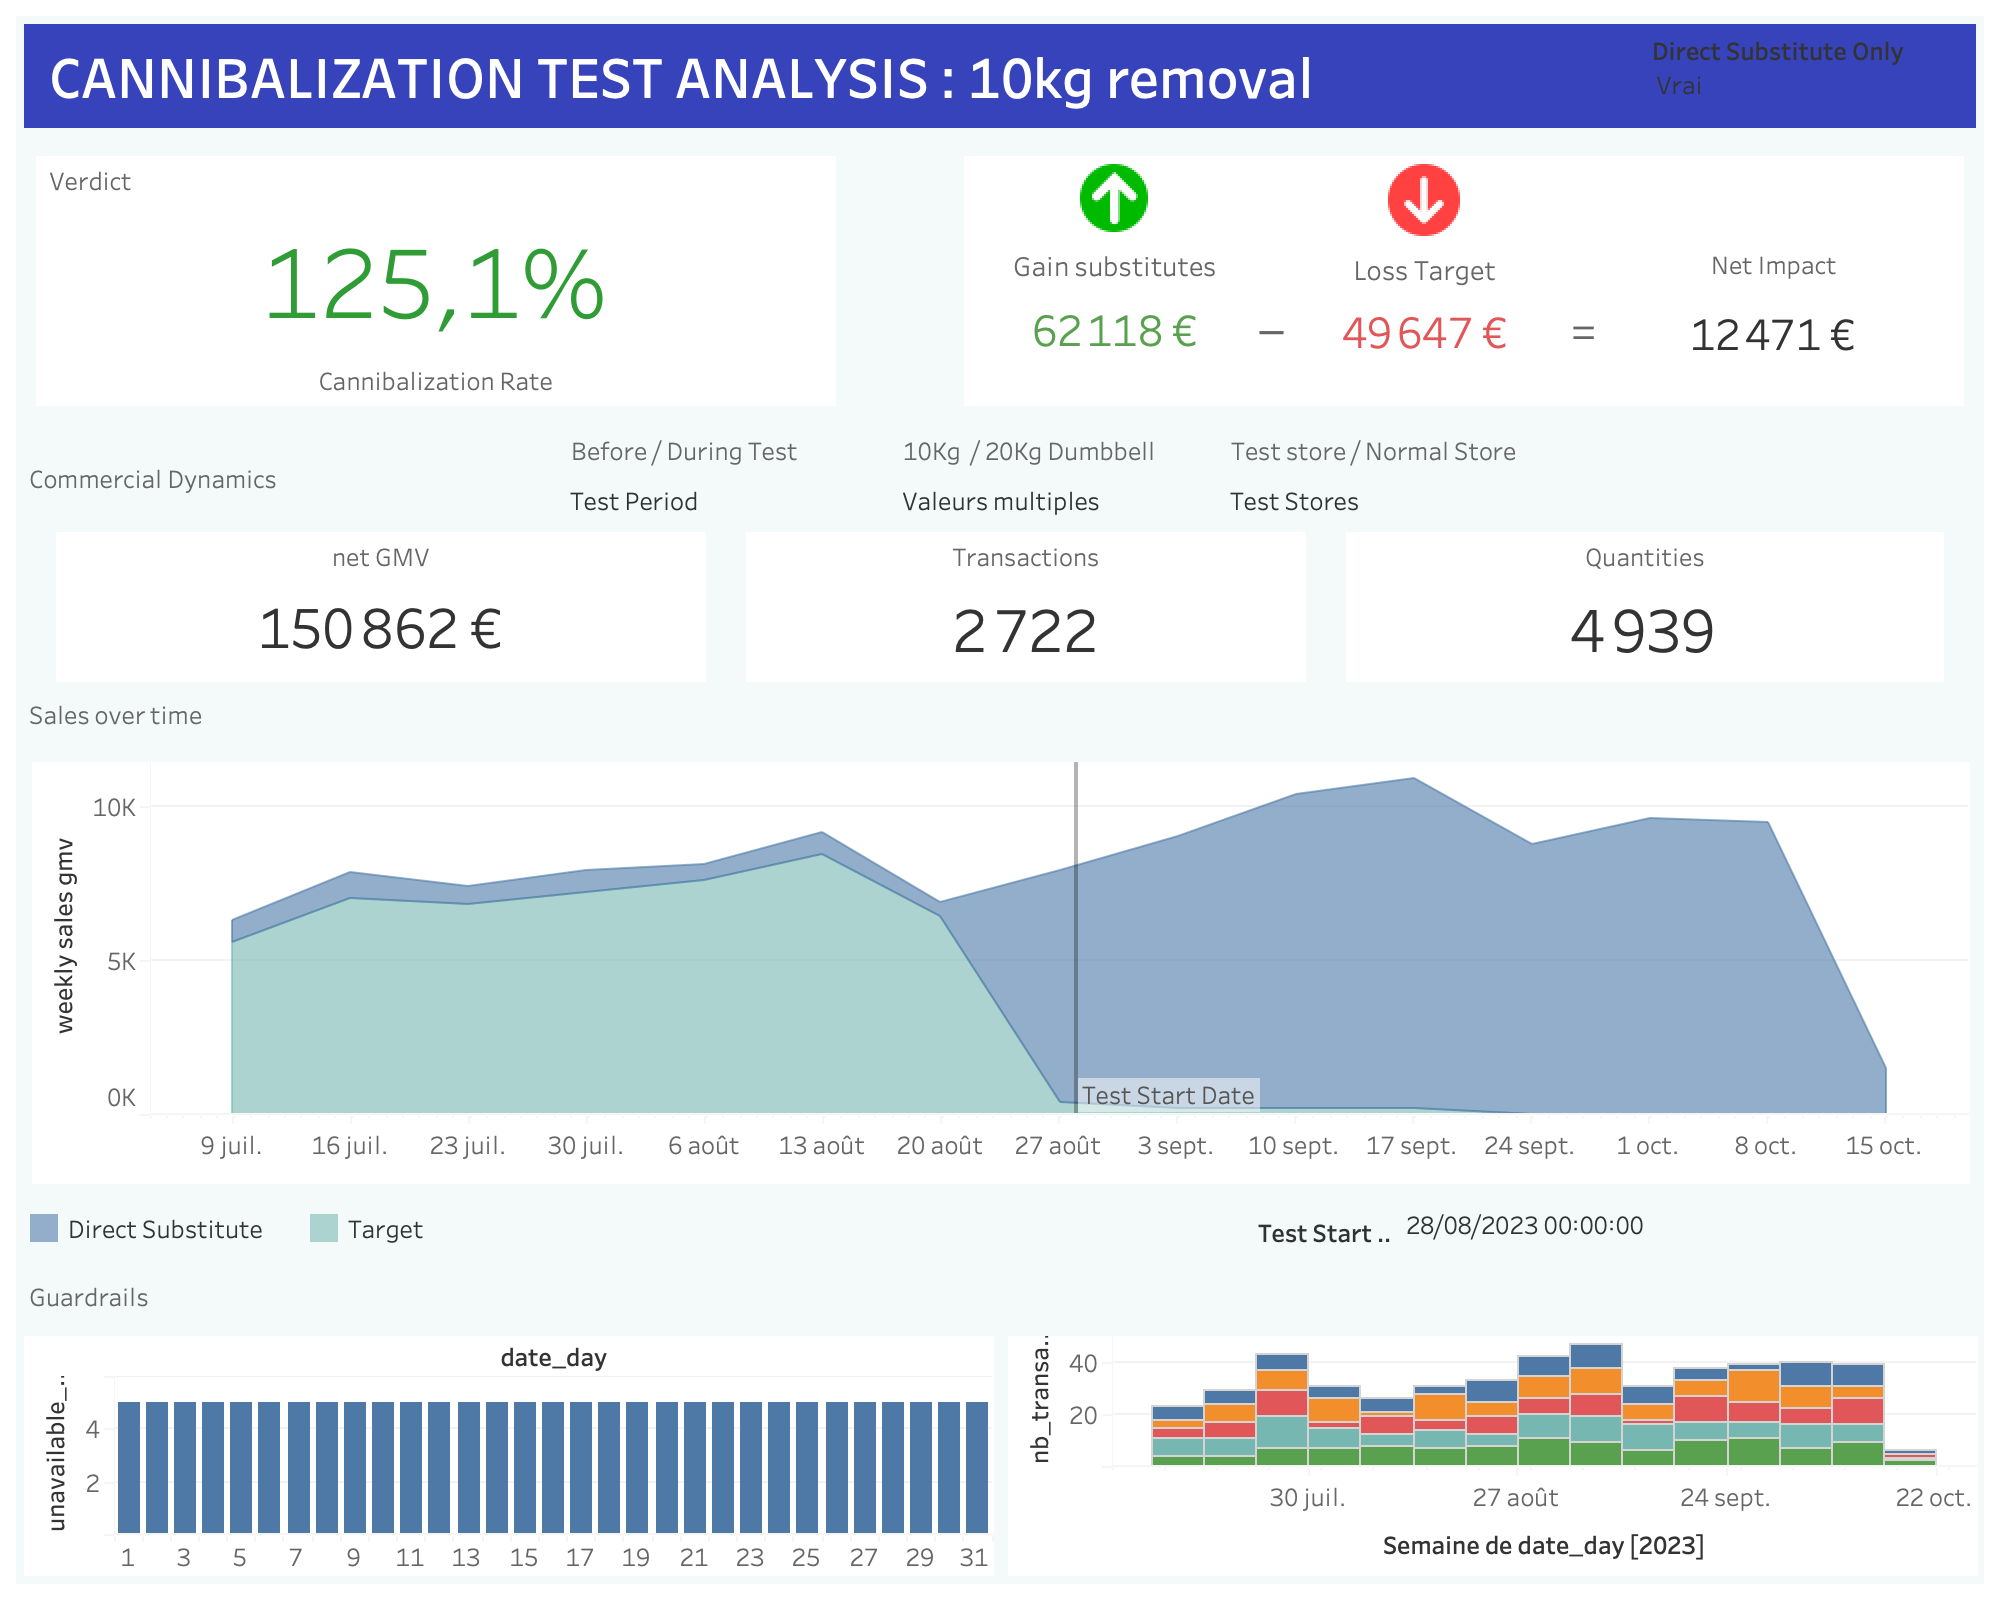

Layout of this report page (visuals, bound fields, positions):
{"tool":"tableau","page":{"name":"Dahsboard","canvas":[1000,800],"ordinal":1},"visuals":[{"type":"text","box":[8,8,984,60]},{"type":"parameter","param":"[Parameters].[Paramètre use_direct_sub_only]","box":[859,16,132,44]},{"type":"text","box":[768,17,86,42]},{"type":"text","box":[18,78,432,25]},{"type":"blank","box":[450,78,10,112]},{"type":"image","param":"/Users/tpuckert/Downloads/up-arrow.png","box":[460,78,174,34]},{"type":"image","param":"/Users/tpuckert/Downloads/arrow(1).png","box":[634,78,174,34]},{"type":"blank","box":[808,78,174,34]},{"type":"text","box":[18,103,432,25]},{"type":"text","box":[460,112,174,26]},{"type":"text","box":[634,112,174,26]},{"type":"text","box":[808,112,174,28.6]},{"type":"worksheet","title":"Cannibalization %","mark":"Automatic","box":[18,128,432,53]},{"type":"worksheet","title":"Gains","mark":"Automatic","box":[460,138,174,52]},{"type":"worksheet","title":"Loss","mark":"Automatic","box":[634,140.7,174,49.3]},{"type":"worksheet","title":"Net Impact","mark":"Automatic","box":[808,140.7,174,49.3]},{"type":"text","box":[625,146,55,28]},{"type":"text","box":[797,147,36,38]},{"type":"text","box":[18,200,182,25]},{"type":"text","box":[200,200,155,25]},{"type":"text","box":[365,200,200,35]},{"type":"text","box":[575,200,196,35]},{"type":"text","box":[786,200,195.1,35]},{"type":"filter","title":"Quantitites Sold","param":"[databricks-Serverless Starter Warehouse(1)].[none:Calculation_15878707515988172","box":[18,225,182,30.2]},{"type":"filter","title":"Quantitites Sold","param":"[databricks-Serverless Starter Warehouse(1)].[none:Calculation_15878707515987476","box":[200,225,155,34]},{"type":"worksheet","title":"GMV","mark":"Automatic","box":[365,235,200,71]},{"type":"worksheet","title":"NB Transac","mark":"Automatic","box":[575,235,196,71]},{"type":"worksheet","title":"Quantitites Sold","mark":"Automatic","box":[786,235,195.1,71]},{"type":"text","box":[18,255.2,182,25]},{"type":"filter","title":"Quantitites Sold","param":"[databricks-Serverless Starter Warehouse(1)].[none:Calculation_15878707515989196","box":[18,280.2,182,40.8]},{"type":"text","box":[8,321,984,32]},{"type":"worksheet","title":"zone chart substitution","mark":"Area","rows":["daily_net_gmv"],"cols":["date_day"],"box":[8,353,984,247]},{"type":"legend","title":"zone chart substitution","param":"[databricks-Serverless Starter Warehouse(1)].[none:Calculation_15878707515989196","box":[8,600,587,32]},{"type":"parameter","param":"[Parameters].[Paramètre 1]","box":[595,600,397,32]},{"type":"text","box":[8,632,492,32]},{"type":"text","box":[500,632,492,32]},{"type":"worksheet","title":"Gard : online","mark":"Bar","rows":["item_code"],"cols":["store_code"],"box":[8,664,492,128]},{"type":"worksheet","title":"Guard : stock","mark":"Square","rows":["store_code"],"cols":["date_day"],"box":[500,664,421,128]},{"type":"legend","title":"Guard : stock","param":"[databricks-Serverless Starter Warehouse(1)].[none:is_stock_valid_for_analysis:n","box":[921,664,71,128]}]}

Visuals, with their boxes in screenshot pixels (x1, y1, x2, y2), scaled from the page's 1000x800 canvas onto the 2000x1600 screenshot:
text: (16,16,1984,136)
parameter: (1718,32,1982,120)
text: (1536,34,1708,118)
text: (36,156,900,206)
blank: (900,156,920,380)
image: (920,156,1268,224)
image: (1268,156,1616,224)
blank: (1616,156,1964,224)
text: (36,206,900,256)
text: (920,224,1268,276)
text: (1268,224,1616,276)
text: (1616,224,1964,281)
"Cannibalization %" worksheet: (36,256,900,362)
"Gains" worksheet: (920,276,1268,380)
"Loss" worksheet: (1268,281,1616,380)
"Net Impact" worksheet: (1616,281,1964,380)
text: (1250,292,1360,348)
text: (1594,294,1666,370)
text: (36,400,400,450)
text: (400,400,710,450)
text: (730,400,1130,470)
text: (1150,400,1542,470)
text: (1572,400,1962,470)
"Quantitites Sold" filter: (36,450,400,510)
"Quantitites Sold" filter: (400,450,710,518)
"GMV" worksheet: (730,470,1130,612)
"NB Transac" worksheet: (1150,470,1542,612)
"Quantitites Sold" worksheet: (1572,470,1962,612)
text: (36,510,400,560)
"Quantitites Sold" filter: (36,560,400,642)
text: (16,642,1984,706)
"zone chart substitution" worksheet (Area marks): (16,706,1984,1200)
"zone chart substitution" legend: (16,1200,1190,1264)
parameter: (1190,1200,1984,1264)
text: (16,1264,1000,1328)
text: (1000,1264,1984,1328)
"Gard : online" worksheet (Bar marks): (16,1328,1000,1584)
"Guard : stock" worksheet (Square marks): (1000,1328,1842,1584)
"Guard : stock" legend: (1842,1328,1984,1584)
